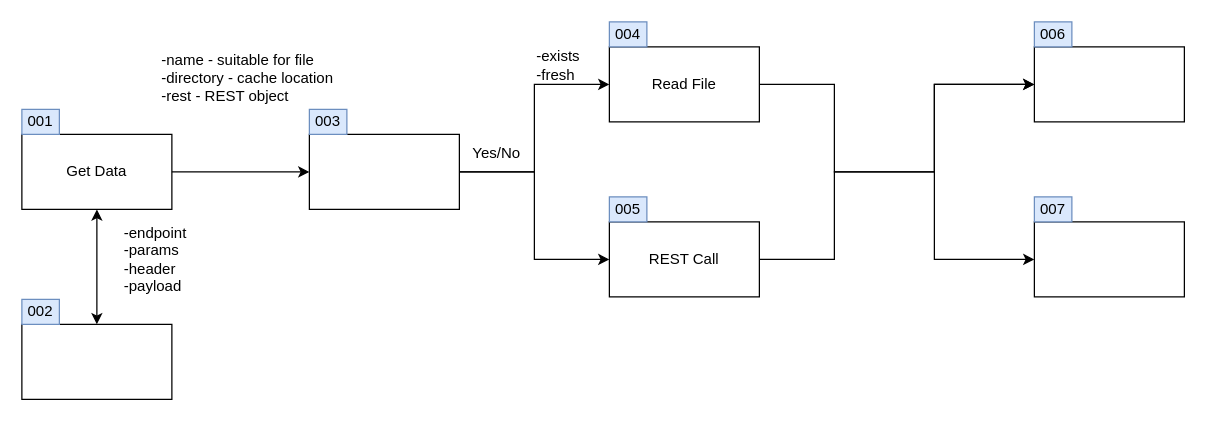
The diagram is 1206 pixels wide and 421 high, and some of its shapes have lost their labels. The shapes that lost their labels are listed below. From the top down, each one's centre as x and y in pixels, then its label:
At pixel 1108 84: "Write To Cache".
At pixel 383 171: "Check Cache".
At pixel 1108 259: "Return JSON Data".
At pixel 96 361: "Construct REST Object".
